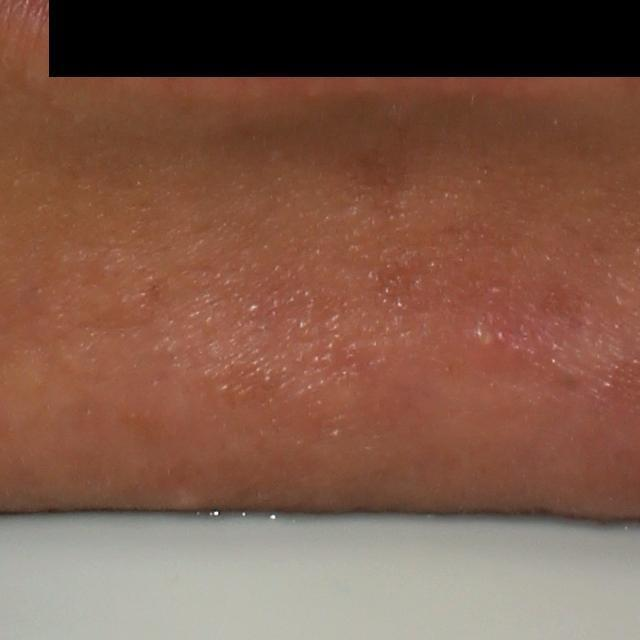pustule: (458, 308, 508, 360)
